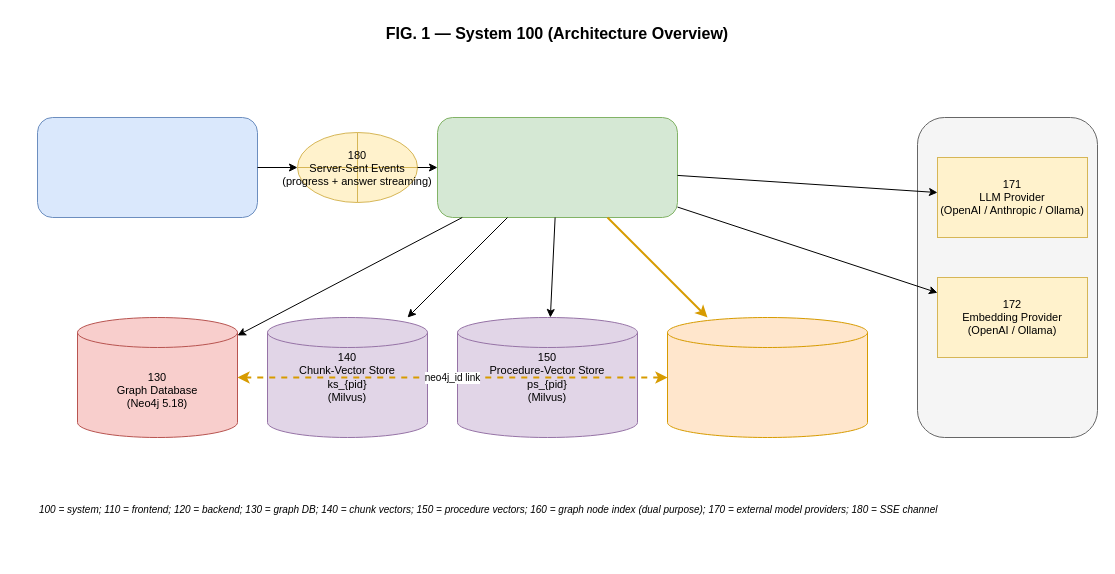
The diagram is 1115 pixels wide and 574 high, and some of its shapes have lost their labels. Here are the shapes that lost their labels. From the top down, the centre of each, then its label:
At pixel 147 167: "110 Frontend Application (React / Vite)".
At pixel 557 167: "120 Backend Service (FastAPI + DSPy)".
At pixel 767 377: "160 Graph Node Index gn_{pid} (neo4j_id + embedding)".
